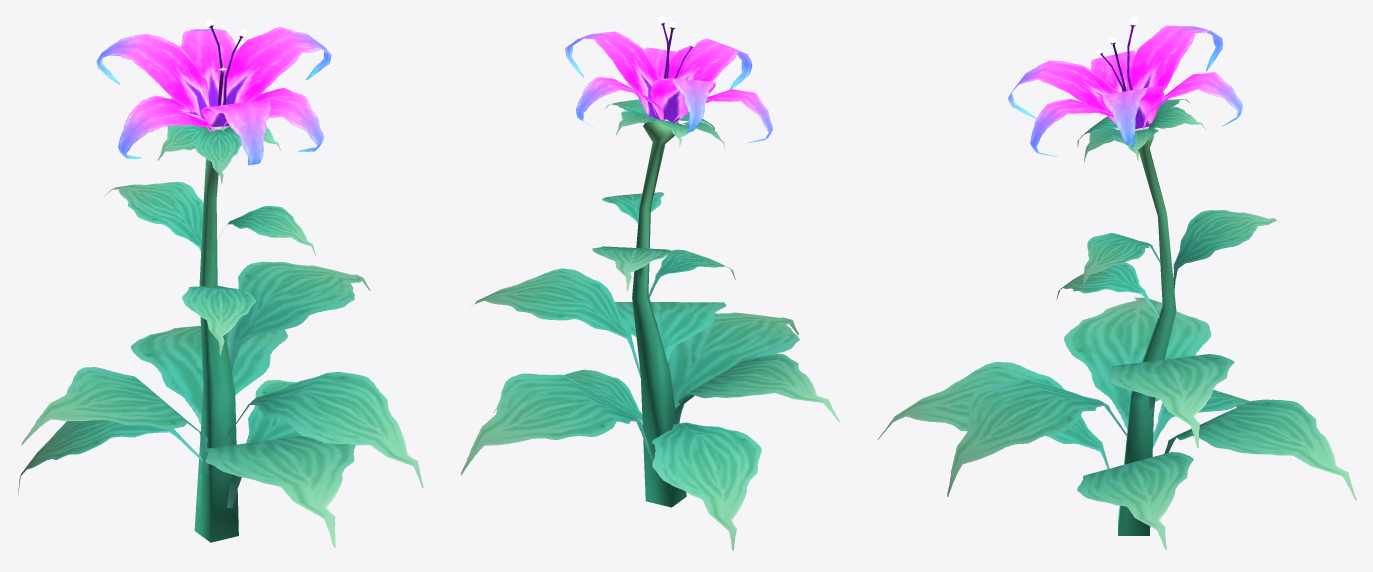
Rendered from SM_ENV_flower_ancient_02.fbx.
The picture shows the model from 3 angles, left to right: view 1: azimuth 30°, elevation 25°; view 2: azimuth 150°, elevation 25°; view 3: azimuth 270°, elevation 25°; orthographic projection. The views are drawn at different scales.
Parts seen in each view (by area): view 1: SM_ENV_flower_ancient_02_LOD0; view 2: SM_ENV_flower_ancient_02_LOD0; view 3: SM_ENV_flower_ancient_02_LOD0.
Boxes of the visible parts, left/top/right/bottom form: SM_ENV_flower_ancient_02_LOD0: left=18, top=18, right=423, bottom=547; SM_ENV_flower_ancient_02_LOD0: left=461, top=16, right=840, bottom=550; SM_ENV_flower_ancient_02_LOD0: left=877, top=16, right=1356, bottom=550.
Size of the model in its own units: 50.53 by 64.72 by 55.91.
